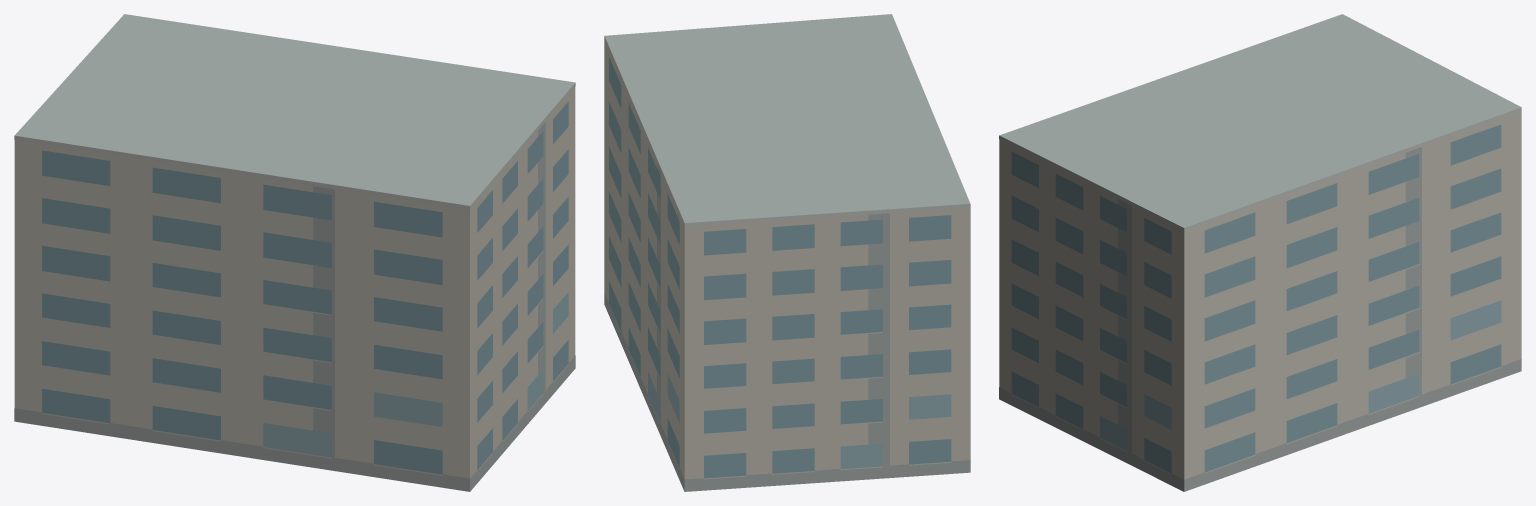
File: survey-upis-32866985.glb
3 views of the same model, side by side, from view 1: azimuth 30°, elevation 25°; view 2: azimuth 150°, elevation 25°; view 3: azimuth 270°, elevation 25° (orthographic). The views are drawn at different scales.
Visible parts, largest first — view 1: survey-upis-32866985.tmp; view 2: survey-upis-32866985.tmp; view 3: survey-upis-32866985.tmp.
Boxes of the visible parts, x1,y1,x2,y2 form: survey-upis-32866985.tmp: (14, 14, 575, 491); survey-upis-32866985.tmp: (604, 14, 970, 491); survey-upis-32866985.tmp: (999, 14, 1521, 491).
Size of the model in its own units: 28.36 by 16.3 by 29.26.
